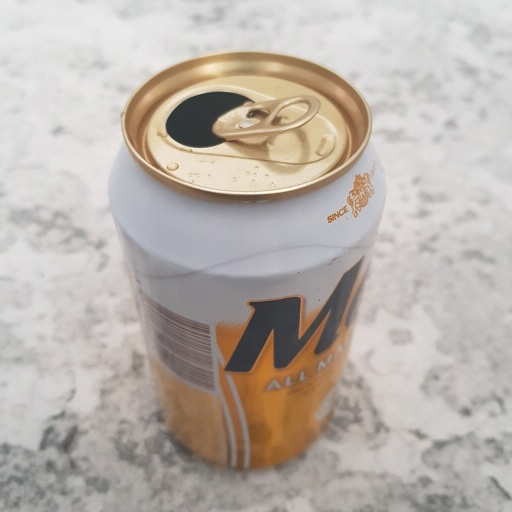Metal_0: (107, 52, 387, 472)
